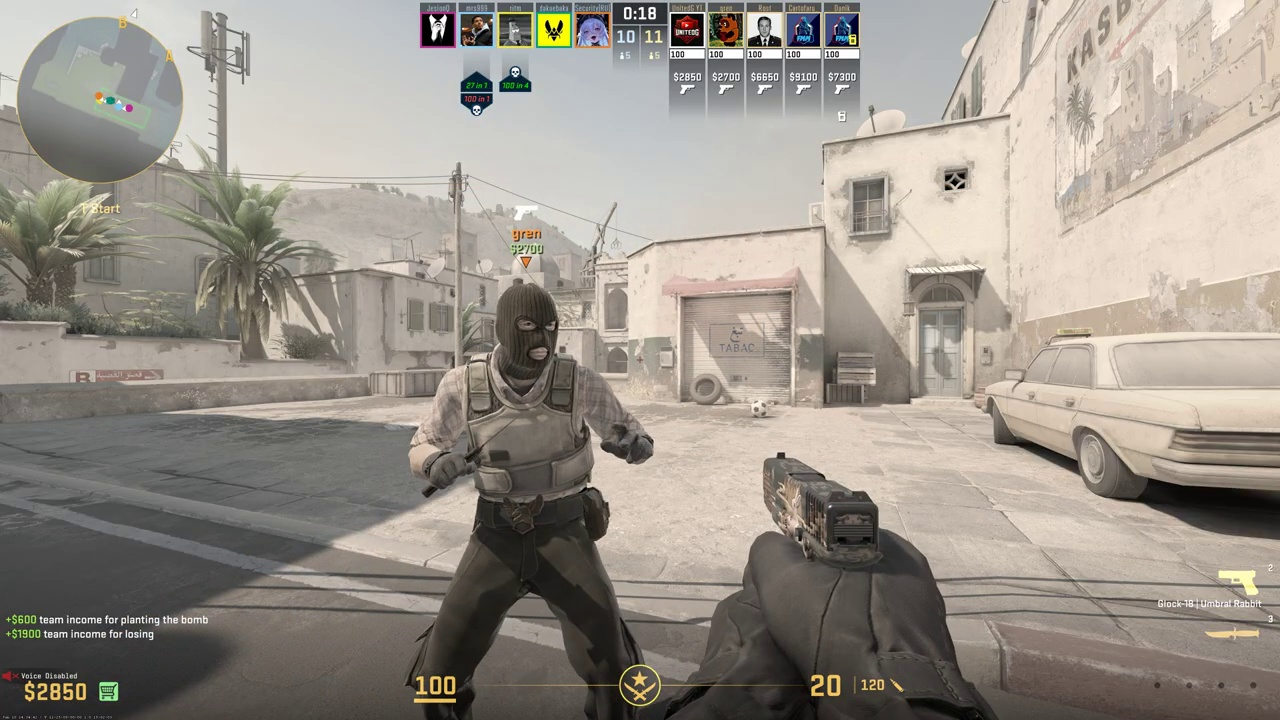Terrorist: (410, 283, 635, 719)
